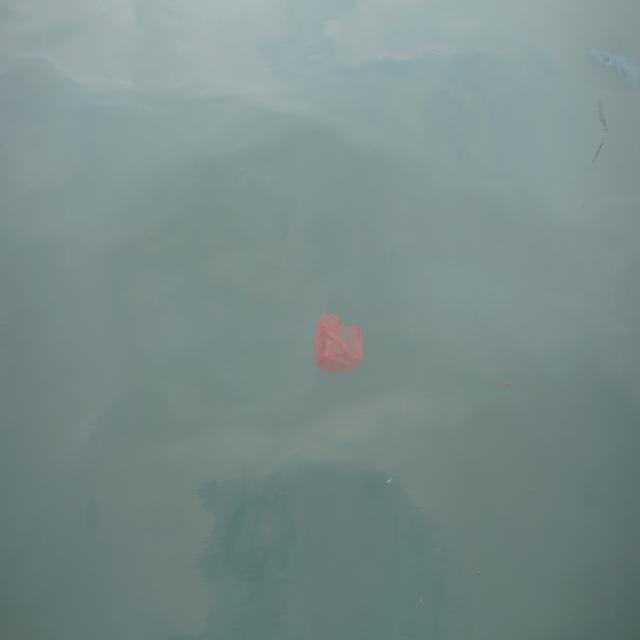Kantong Plastik: (313, 307, 367, 378)
